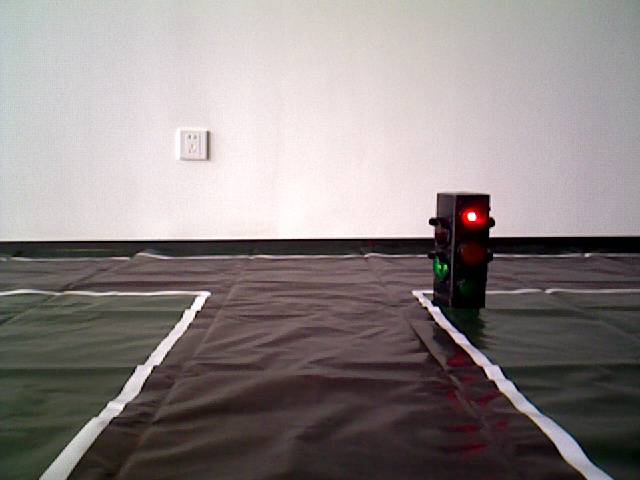red: (434, 192, 489, 306)
